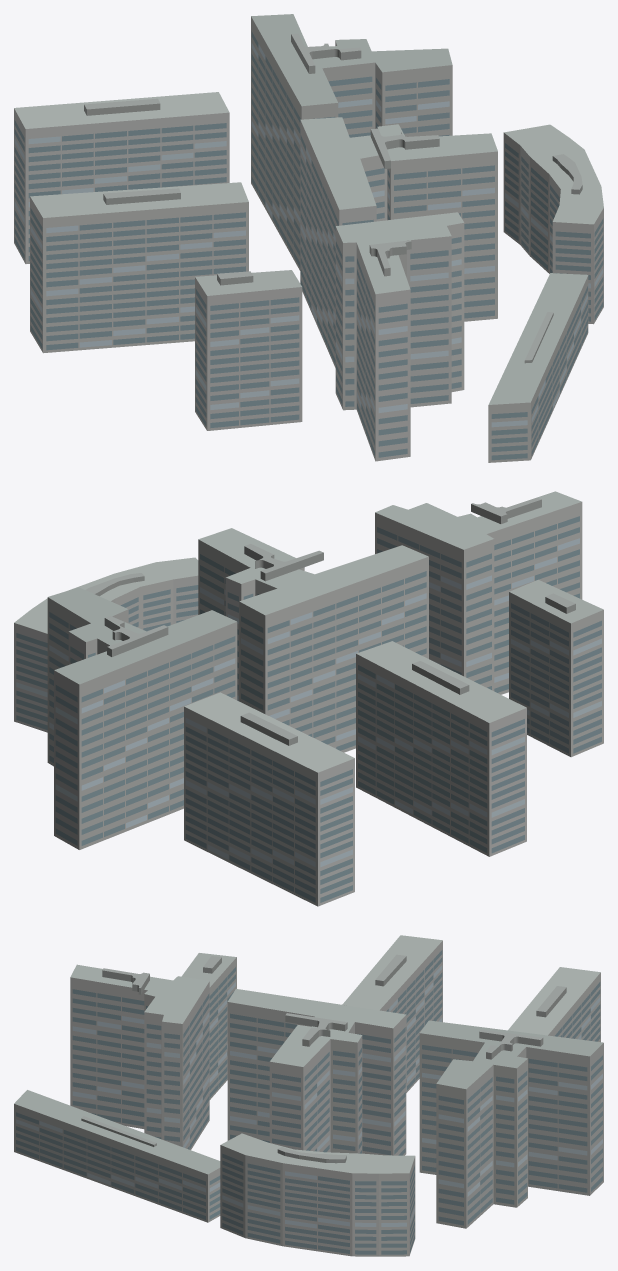
Rendered from apt-a13811204.glb.
3 views of the same model, one above another, from view 1: azimuth 30°, elevation 25°; view 2: azimuth 150°, elevation 25°; view 3: azimuth 270°, elevation 25° (orthographic). The views are drawn at different scales.
Visible parts, largest first — view 1: apt-a13811204; view 2: apt-a13811204; view 3: apt-a13811204.
Boxes of the visible parts, box(x1,y1,x2,y2) form: apt-a13811204: box(14, 14, 603, 462); apt-a13811204: box(14, 491, 603, 906); apt-a13811204: box(14, 935, 603, 1256).
Size of the model in its own units: 160 by 52 by 190.
